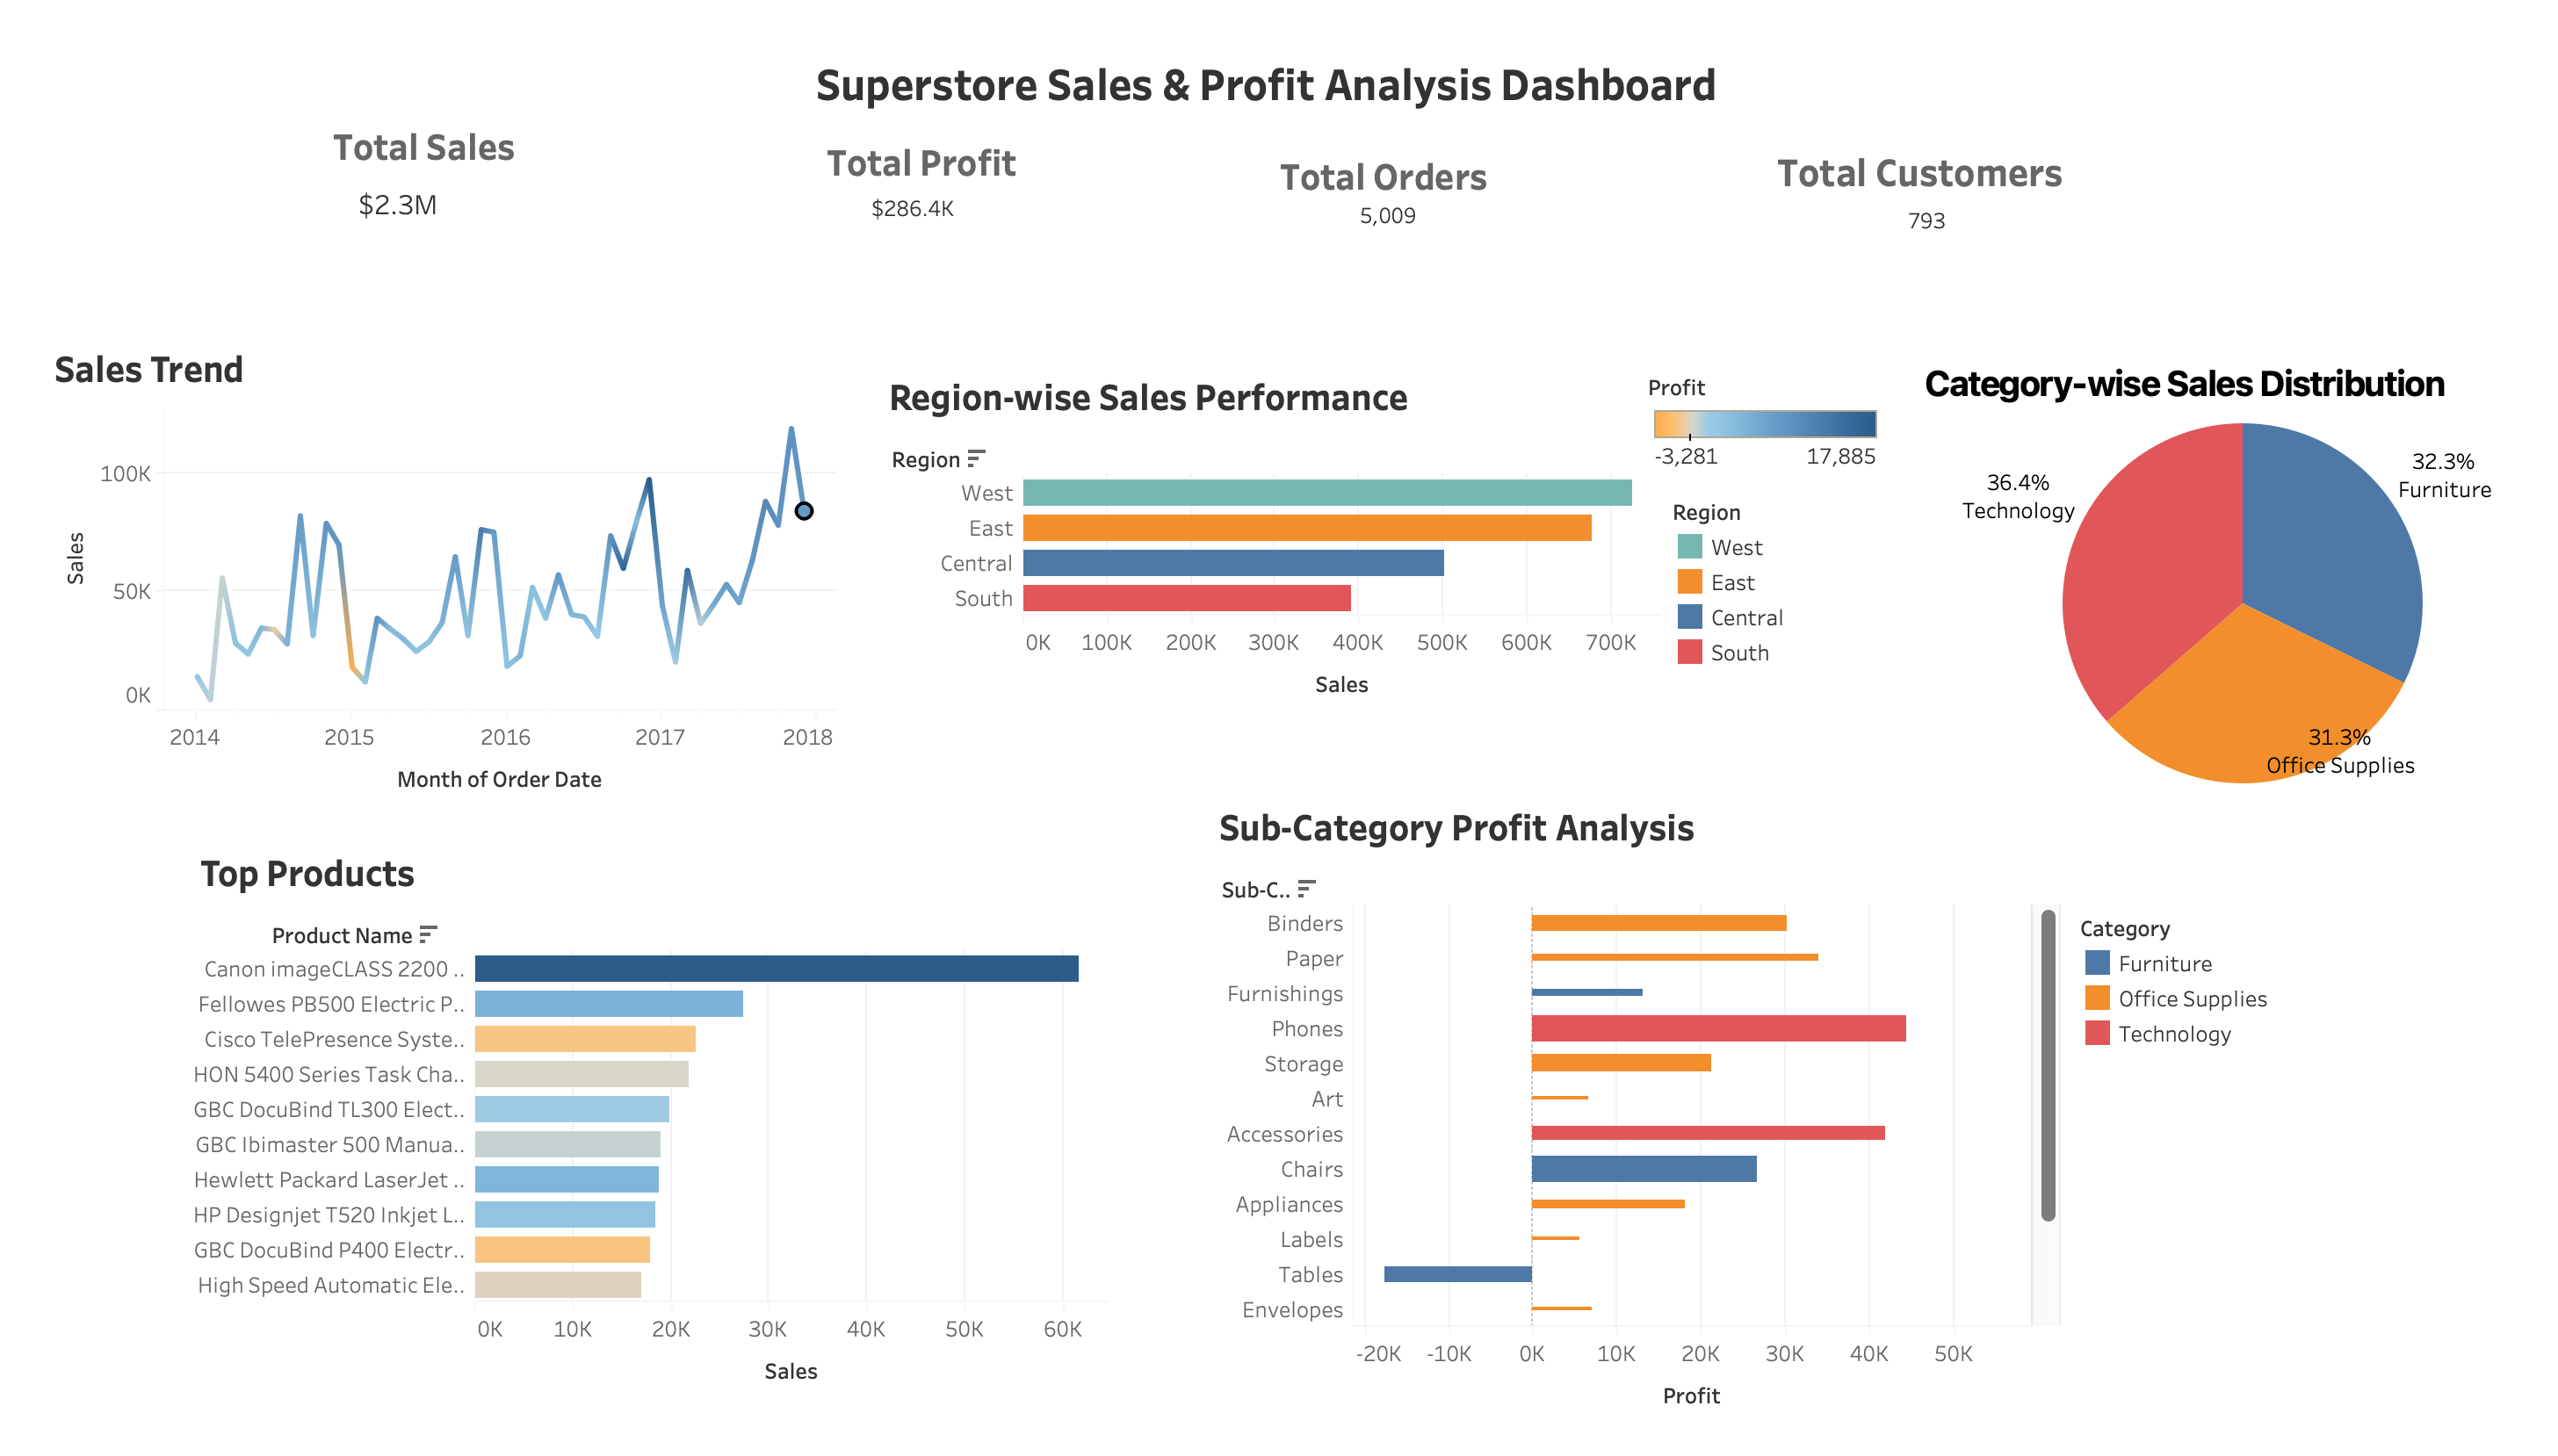

The dashboard page shown, as its layout file describes it:
{"tool":"tableau","page":{"name":"Dashboard 1","canvas":[1000,1000],"units":"permille","ordinal":0},"visuals":[{"type":"title","box":[6.7,10.1,986.7,51.8]},{"type":"text","box":[55.3,54.4,96.6,53.1]},{"type":"text","box":[740.1,55.6,155.4,83.4]},{"type":"text","box":[503.9,59.4,115.9,80.9]},{"type":"text","box":[288.9,62,108.9,55.6]},{"type":"worksheet","title":"Sheet 8","mark":"Automatic","box":[60.6,110,115,67]},{"type":"worksheet","title":"Sheet 9","mark":"Automatic","box":[304.7,112.5,127.3,64.5]},{"type":"worksheet","title":"Sheet 10","mark":"Automatic","box":[525,117.6,122,64.5]},{"type":"worksheet","title":"Sheet 11","mark":"Automatic","box":[776.1,121.4,123.8,104.9]},{"type":"worksheet","title":"Sheet 5","mark":"Automatic","rows":["Region"],"cols":["Sales"],"box":[317.5,236.1,370,301.8]},{"type":"legend","title":"Sheet 3","param":"[federated.1up2xsx1fk47s11azh82j0akwjps].[sum:Profit:qk]","box":[680.8,241.2,112.5,72]},{"type":"legend","title":"Sheet 5","param":"[federated.1up2xsx1fk47s11azh82j0akwjps].[none:Region:nk]","box":[692.5,329.6,123.3,123.7]},{"type":"worksheet","title":"Sheet 7","mark":"Automatic","rows":["Sub-Category"],"cols":["Profit"],"box":[474.2,542.9,402.5,445.7]}]}

Visuals, with their boxes on the dashboard's canvas, which has no fixed pixel size, in thousandths of its width and height (x1, y1, x2, y2). These are canvas units, not pixel positions in the 2558x1456 screenshot, which may show the page scaled, cropped or inside an application window:
title: bbox=[7, 10, 993, 62]
text: bbox=[55, 54, 152, 108]
text: bbox=[740, 56, 896, 139]
text: bbox=[504, 59, 620, 140]
text: bbox=[289, 62, 398, 118]
"Sheet 8" worksheet: bbox=[61, 110, 176, 177]
"Sheet 9" worksheet: bbox=[305, 112, 432, 177]
"Sheet 10" worksheet: bbox=[525, 118, 647, 182]
"Sheet 11" worksheet: bbox=[776, 121, 900, 226]
"Sheet 5" worksheet: bbox=[318, 236, 688, 538]
"Sheet 3" legend: bbox=[681, 241, 793, 313]
"Sheet 5" legend: bbox=[692, 330, 816, 453]
"Sheet 7" worksheet: bbox=[474, 543, 877, 989]
